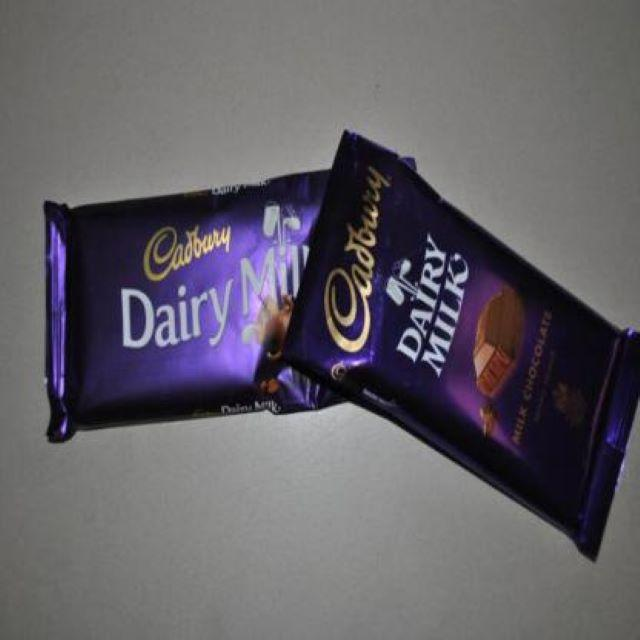cadbury_chocolate: (345, 122, 635, 560), (73, 205, 400, 453)
